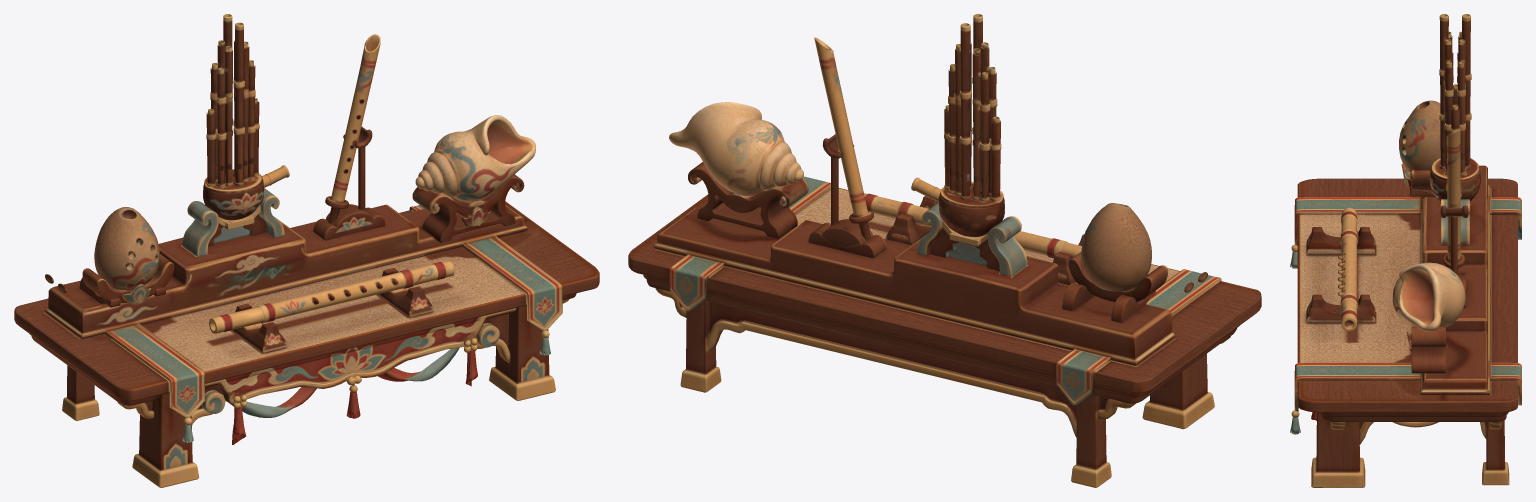
File: winds.glb
The picture shows the model from 3 angles, left to right: view 1: azimuth 30°, elevation 25°; view 2: azimuth 150°, elevation 25°; view 3: azimuth 270°, elevation 25°; orthographic projection. The views are drawn at different scales.
Visible parts, largest first — view 1: e418b08b_26ff_4ebd_a97c_c89c9496bab6; view 2: e418b08b_26ff_4ebd_a97c_c89c9496bab6; view 3: e418b08b_26ff_4ebd_a97c_c89c9496bab6.
Boxes of the visible parts, bbox=[...] form: e418b08b_26ff_4ebd_a97c_c89c9496bab6: bbox=[14, 14, 599, 487]; e418b08b_26ff_4ebd_a97c_c89c9496bab6: bbox=[628, 14, 1261, 487]; e418b08b_26ff_4ebd_a97c_c89c9496bab6: bbox=[1290, 14, 1521, 487].
Bounding box in the file's own units: 0.9995 × 0.7446 × 0.437.
1 material, 1 textured.
